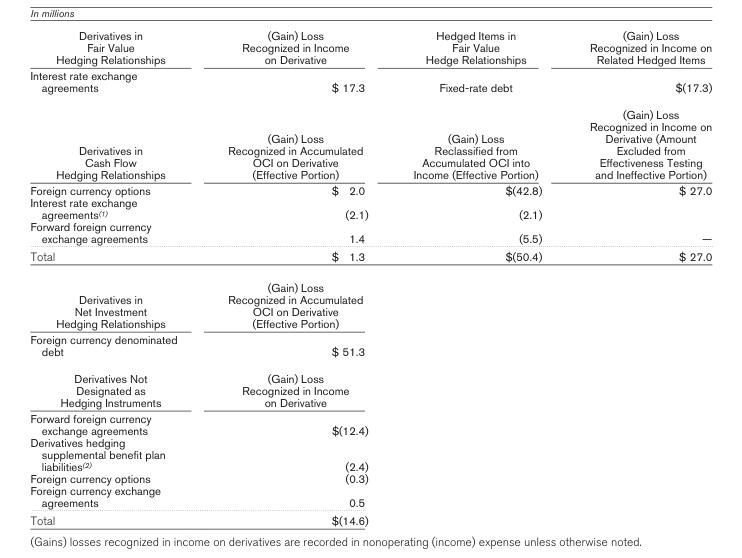table: (29, 28, 711, 527)
table column: (201, 28, 390, 527), (390, 28, 565, 527), (29, 28, 201, 527), (565, 28, 711, 527)
table column header: (29, 28, 711, 67)
table row: (29, 100, 711, 182), (29, 272, 711, 331), (29, 364, 711, 410), (29, 28, 711, 67), (29, 436, 711, 472), (29, 67, 711, 100), (29, 331, 711, 364), (29, 483, 711, 511), (29, 220, 711, 247), (29, 410, 711, 436), (29, 247, 711, 272), (29, 196, 711, 220), (29, 511, 711, 527), (29, 182, 711, 196), (29, 472, 711, 483)
